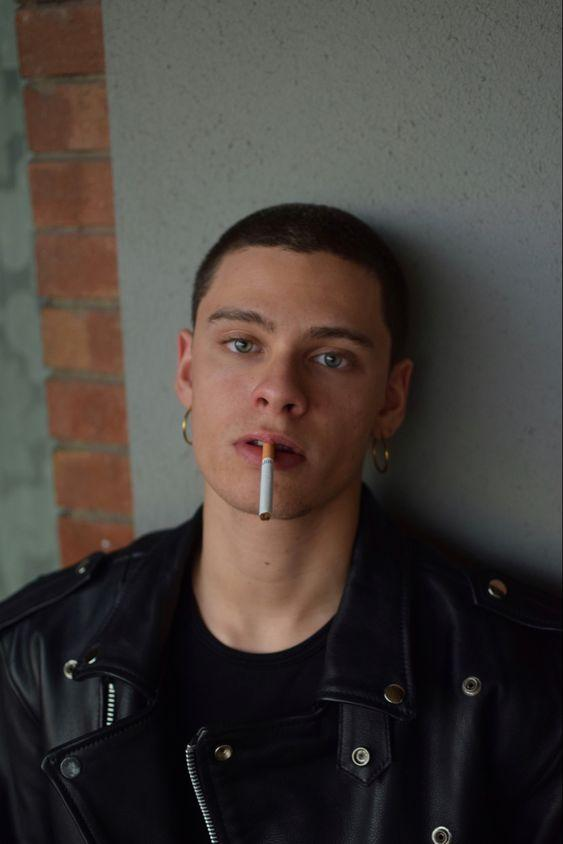cigarette: (259, 442, 275, 521)
